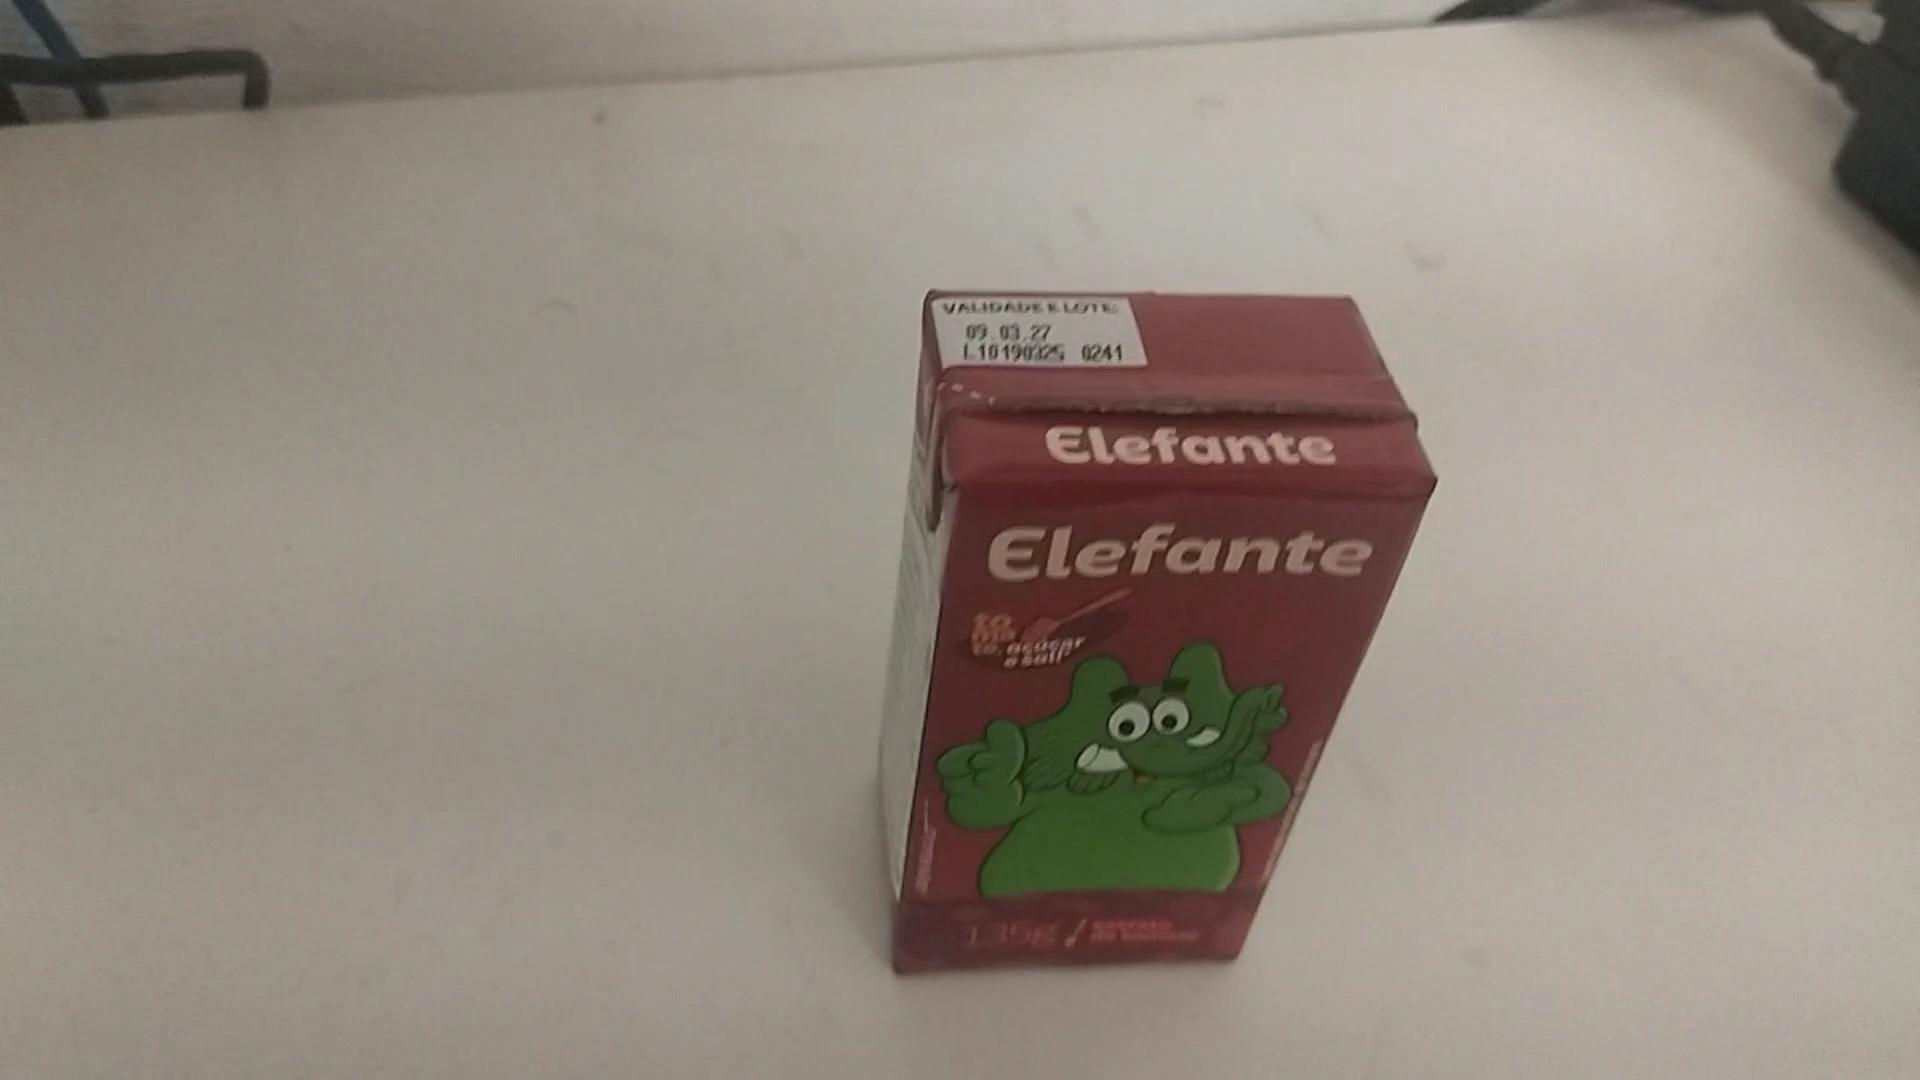tomate: (861, 265, 1448, 969)
